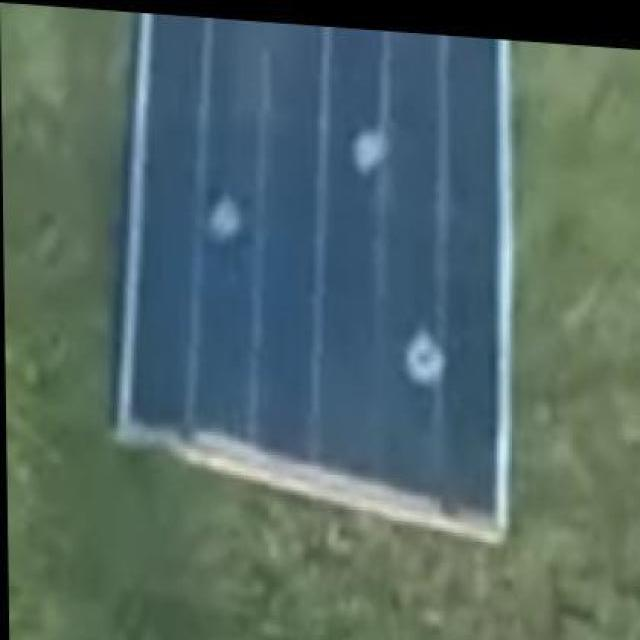soiled: (110, 16, 518, 548)
